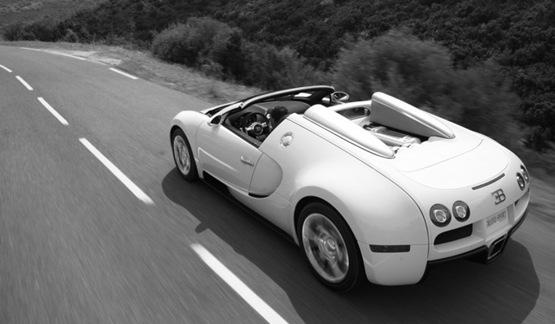car: (170, 87, 533, 289)
